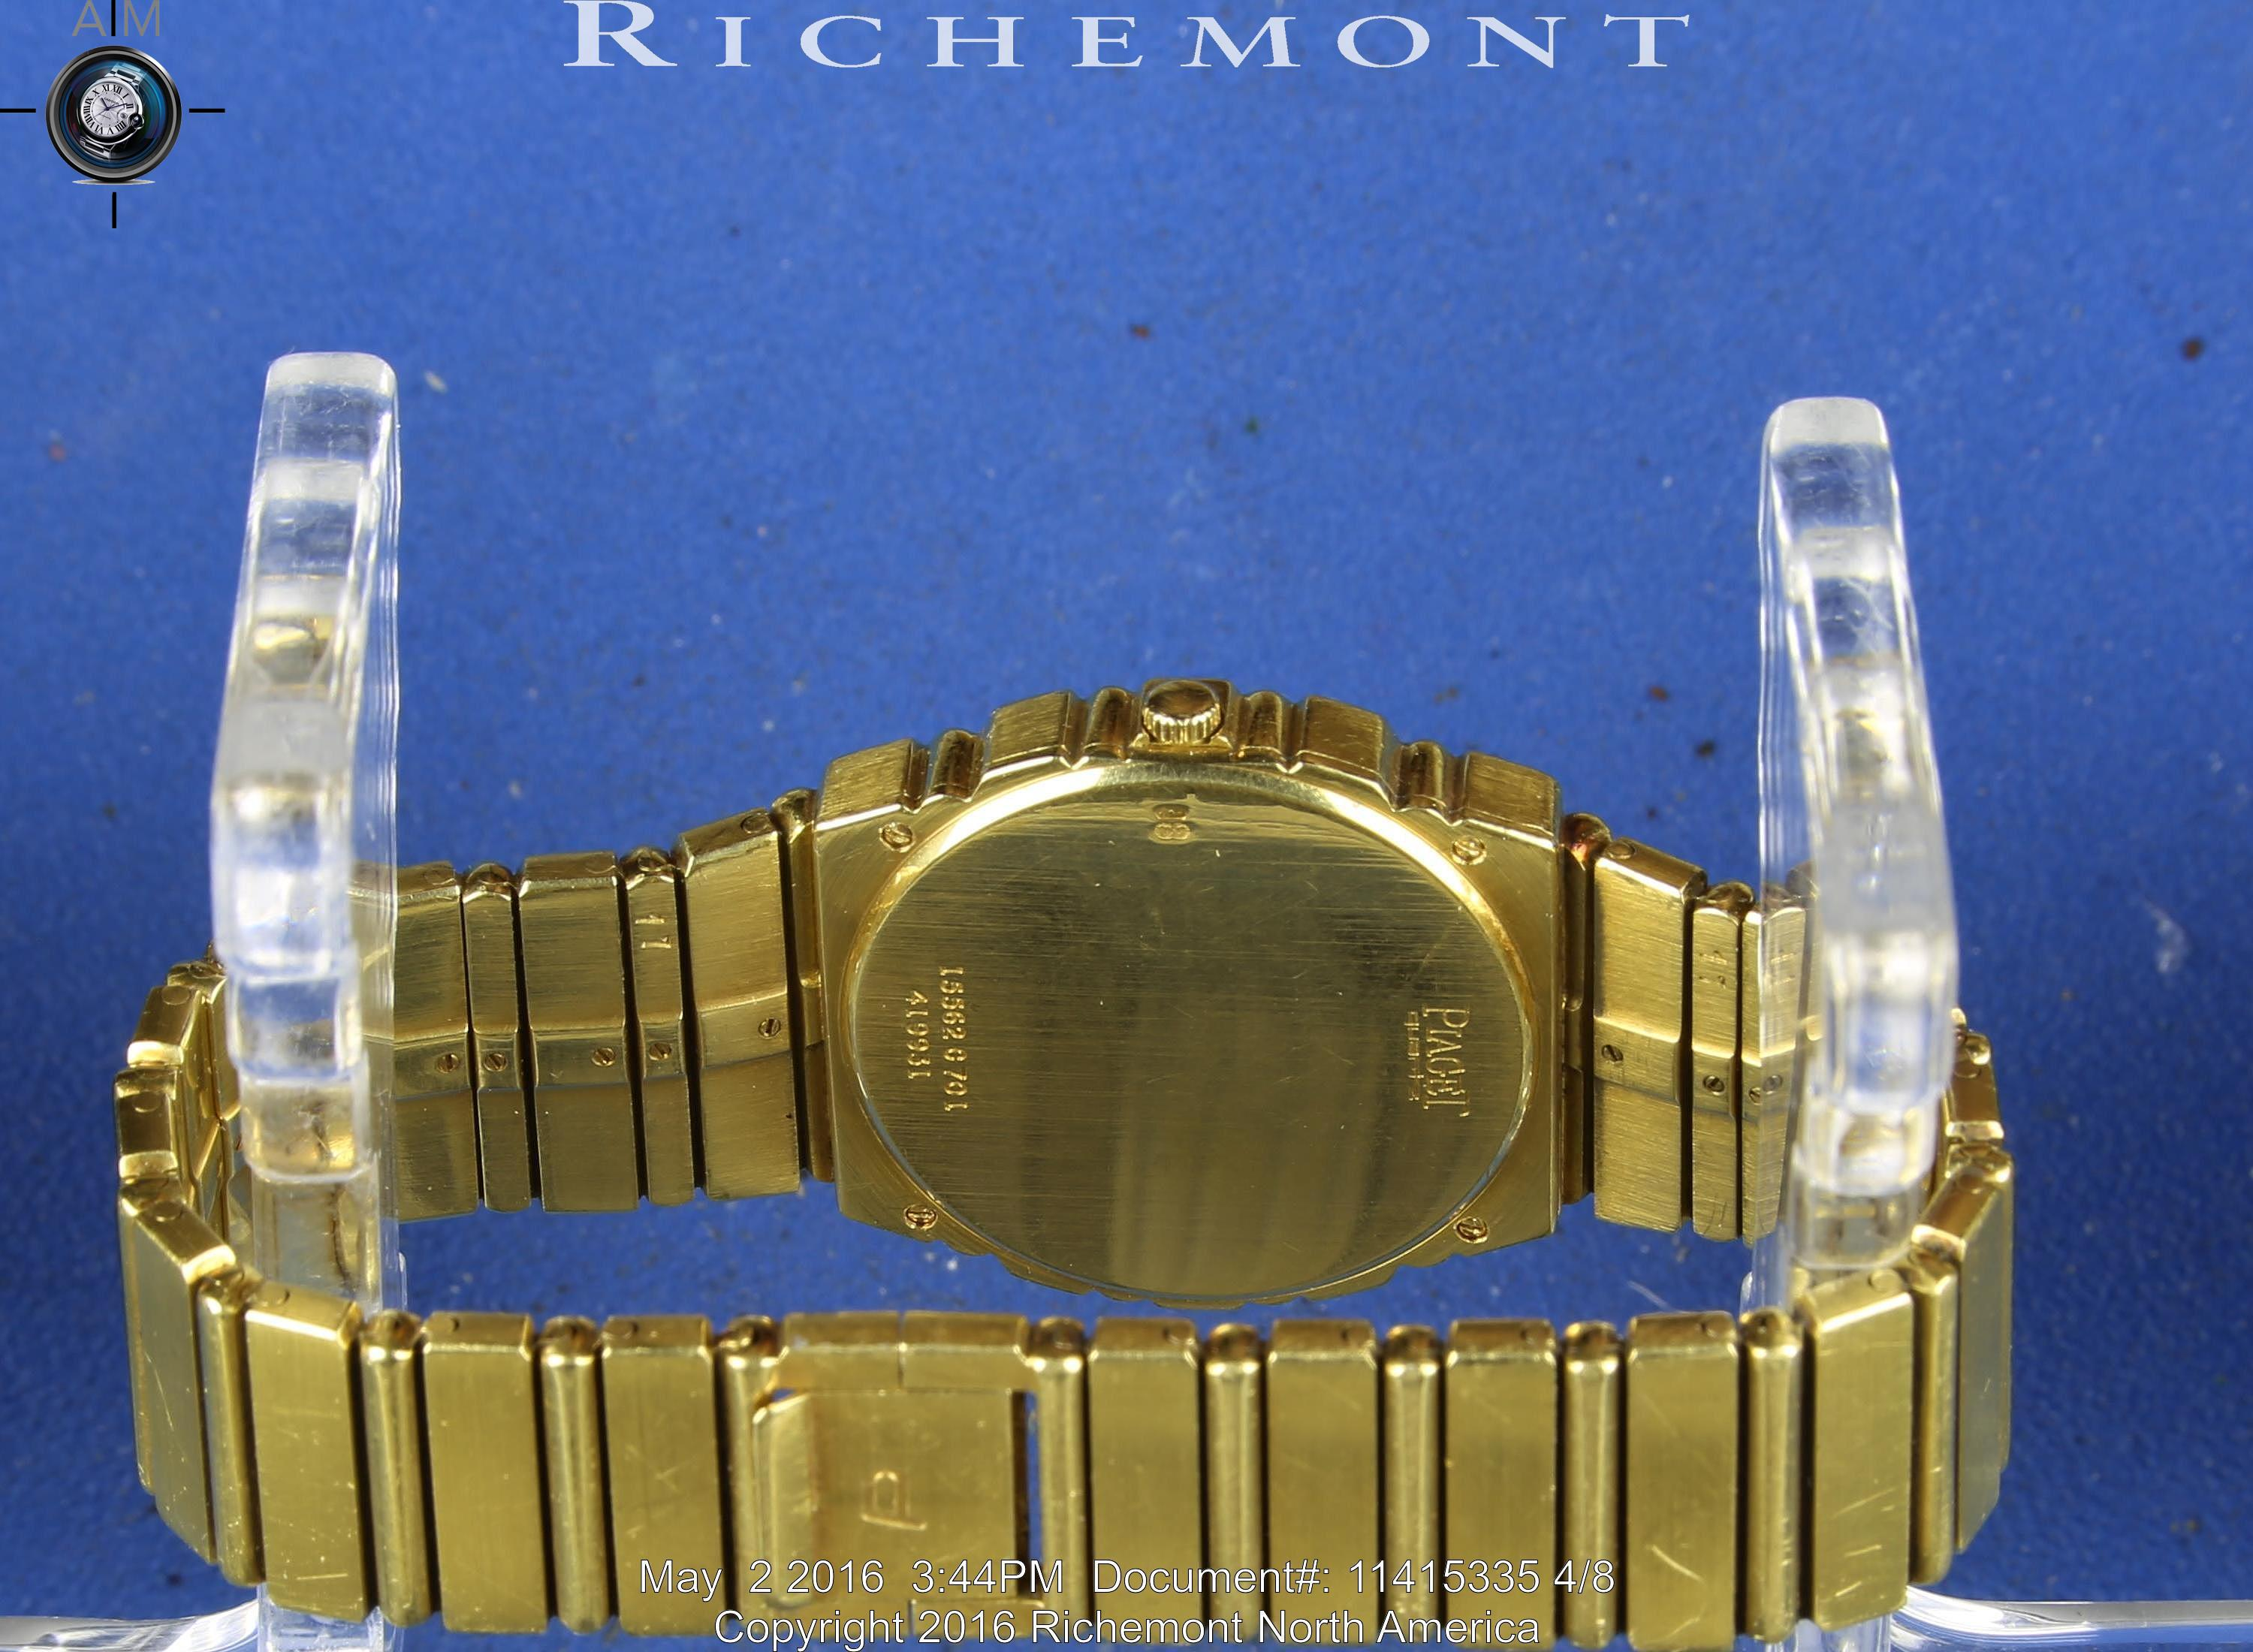Watch BackCase: (813, 668, 1573, 1315)
